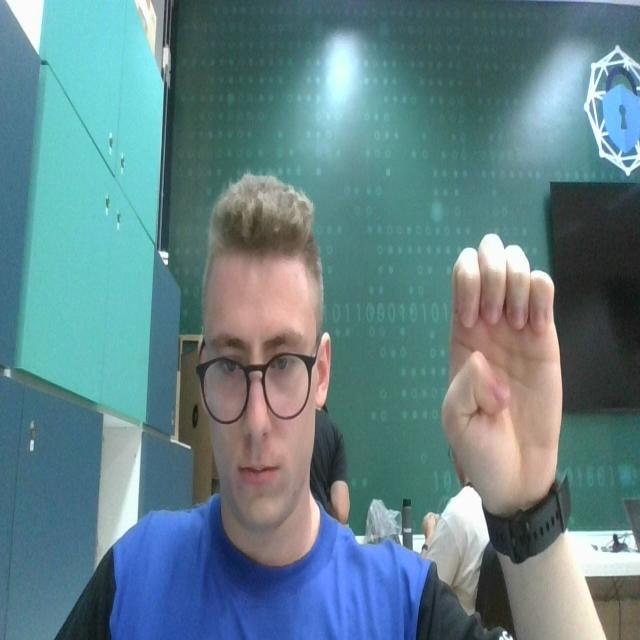E: (438, 228, 565, 498)
